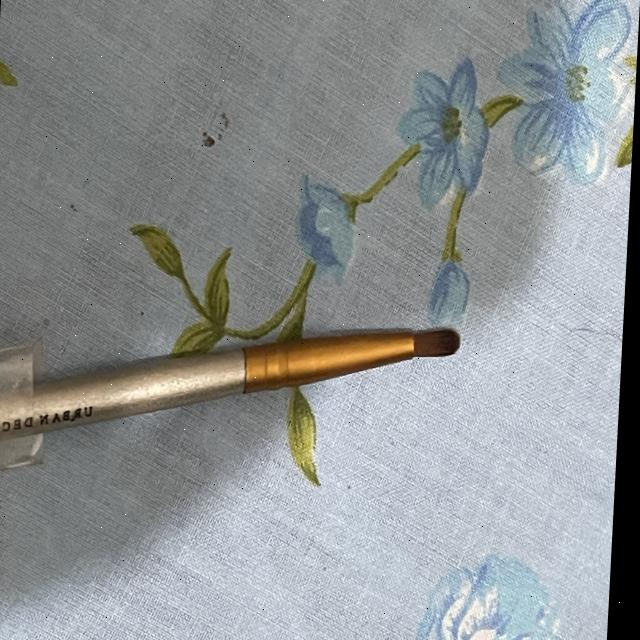brush: (0, 248, 493, 526)
